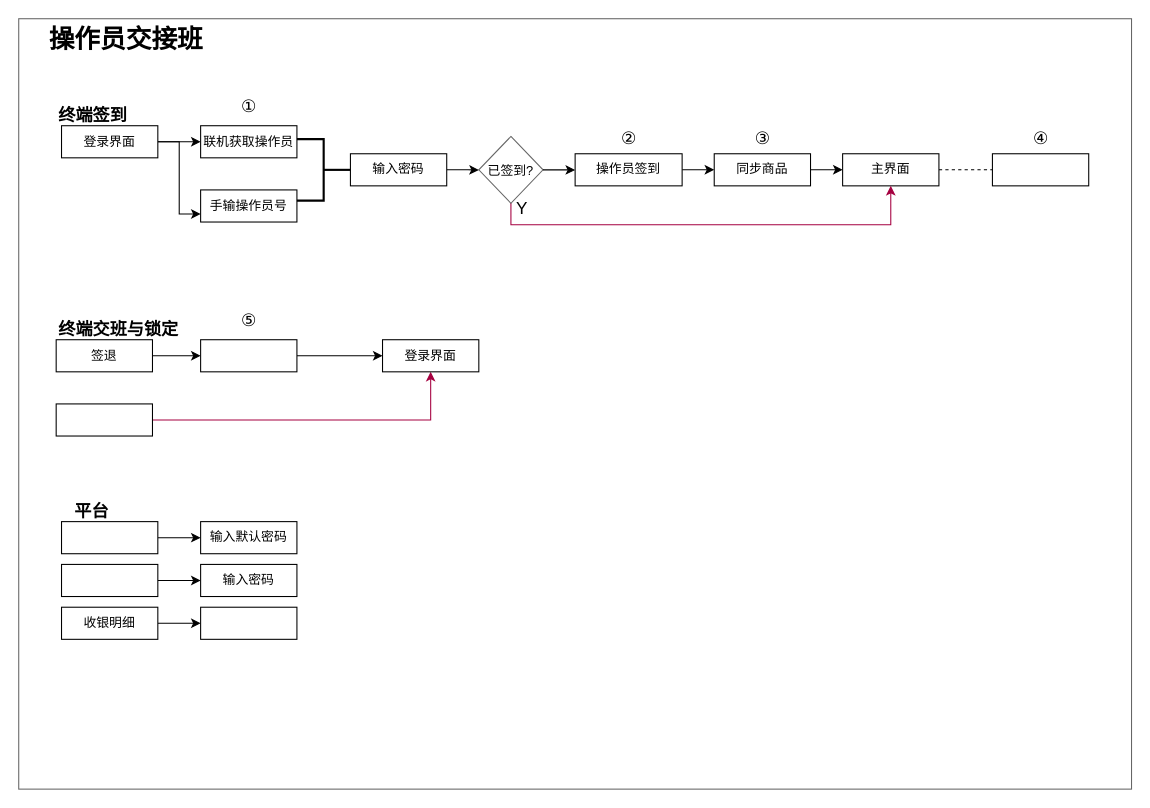
Some shapes in this 1150 by 808 pixel diagram are drawn without their labels. The centre of each missing label's shape, as x and y in pixels:
"商户新增操作员" goes at [109,537].
"增加操作员" goes at [248,622].
"操作员交班" goes at [248,355].
"操作员改密" goes at [1040,169].
"重设操作员密码" goes at [109,580].
"锁定" goes at [103,419].
